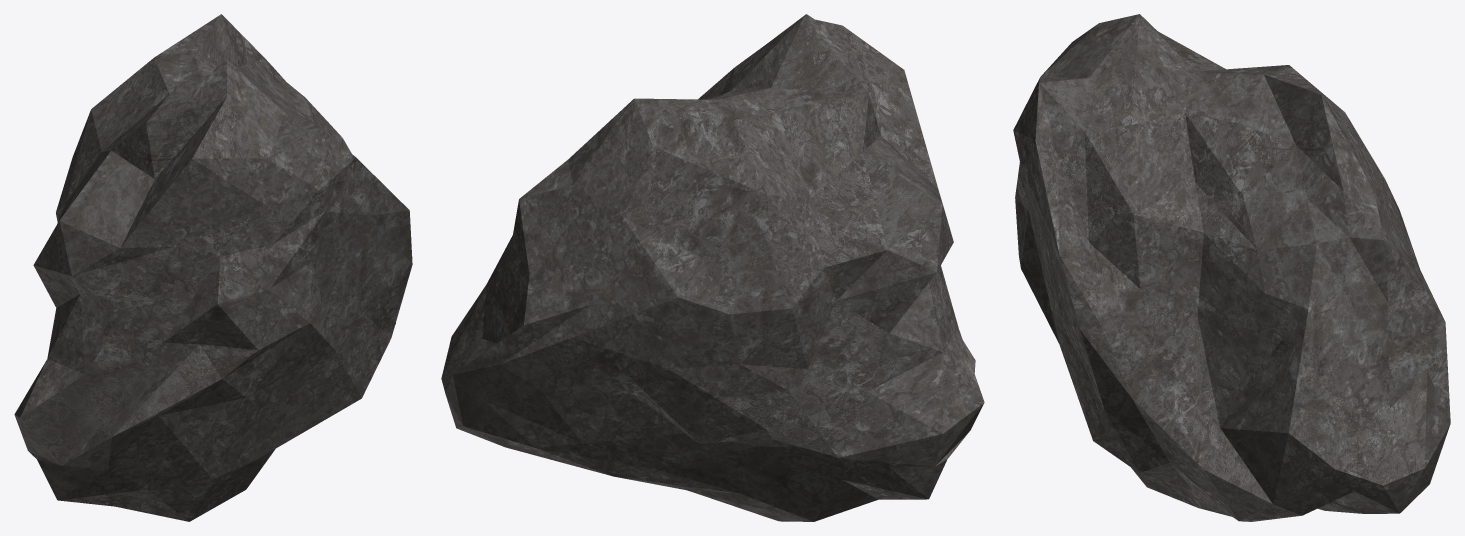
File: SNSS_Lmain_Asteroid003.fbx
3 renders of one model, left to right at view 1: azimuth 30°, elevation 25°; view 2: azimuth 150°, elevation 25°; view 3: azimuth 270°, elevation 25°, orthographic. The views are drawn at different scales.
Visible parts, largest first — view 1: Asteriod_03, Asteriod_004_Part_12, Asteriod_004_Part_15, Asteriod_004_Part_19, Asteriod_004_Part_6, Asteriod_004_Part_4, Asteriod_004_Part_2, Asteriod_004_Part_9, Asteriod_004_Part_13, Asteriod_004_Part_18; view 2: Asteriod_03, Asteriod_004_Part_11, Asteriod_004_Part_9, Asteriod_004_Part_4, Asteriod_004_Part_1, Asteriod_004_Part_13, Asteriod_004_Part_17, Asteriod_004_Part_3, Asteriod_004_Part_16, Asteriod_004_Part_8, Asteriod_004_Part_5, Asteriod_004_Part_6 (+3 smaller); view 3: Asteriod_03, Asteriod_004_Part_13, Asteriod_004_Part_20, Asteriod_004_Part_14, Asteriod_004_Part_2, Asteriod_004_Part_12, Asteriod_004_Part_18, Asteriod_004_Part_17, Asteriod_004_Part_7, Asteriod_004_Part_8, Asteriod_004_Part_19, Asteriod_004_Part_16 (+1 smaller).
Boxes of the visible parts, <box> form: Asteriod_03: <box>14,14,412,521</box>; Asteriod_004_Part_12: <box>102,62,333,353</box>; Asteriod_004_Part_15: <box>102,384,298,520</box>; Asteriod_004_Part_19: <box>263,248,412,435</box>; Asteriod_004_Part_6: <box>32,289,263,450</box>; Asteriod_004_Part_4: <box>34,95,168,314</box>; Asteriod_004_Part_2: <box>257,153,411,354</box>; Asteriod_004_Part_9: <box>15,376,109,501</box>; Asteriod_004_Part_13: <box>125,14,293,108</box>; Asteriod_004_Part_18: <box>249,55,321,128</box>; Asteriod_03: <box>441,14,984,521</box>; Asteriod_004_Part_11: <box>607,210,792,428</box>; Asteriod_004_Part_9: <box>790,365,983,514</box>; Asteriod_004_Part_4: <box>752,115,942,304</box>; Asteriod_004_Part_1: <box>479,425,697,484</box>; Asteriod_004_Part_13: <box>615,89,778,216</box>; Asteriod_004_Part_17: <box>451,266,628,439</box>; Asteriod_004_Part_3: <box>745,283,892,471</box>; Asteriod_004_Part_16: <box>659,453,816,521</box>; Asteriod_004_Part_8: <box>505,143,643,286</box>; Asteriod_004_Part_5: <box>645,326,775,456</box>; Asteriod_004_Part_6: <box>892,286,978,385</box>; Asteriod_03: <box>1013,14,1450,521</box>; Asteriod_004_Part_13: <box>1149,69,1347,297</box>; Asteriod_004_Part_20: <box>1116,272,1303,503</box>; Asteriod_004_Part_14: <box>1254,310,1426,513</box>; Asteriod_004_Part_2: <box>1017,110,1156,305</box>; Asteriod_004_Part_12: <box>1014,16,1195,254</box>; Asteriod_004_Part_18: <box>1245,117,1372,310</box>; Asteriod_004_Part_17: <box>1404,283,1449,496</box>; Asteriod_004_Part_7: <box>1265,223,1365,324</box>; Asteriod_004_Part_8: <box>1339,145,1425,323</box>; Asteriod_004_Part_19: <box>1032,290,1154,475</box>; Asteriod_004_Part_16: <box>1143,476,1224,514</box>.
Bounding box in the file's own units: 770 × 778 × 621.
